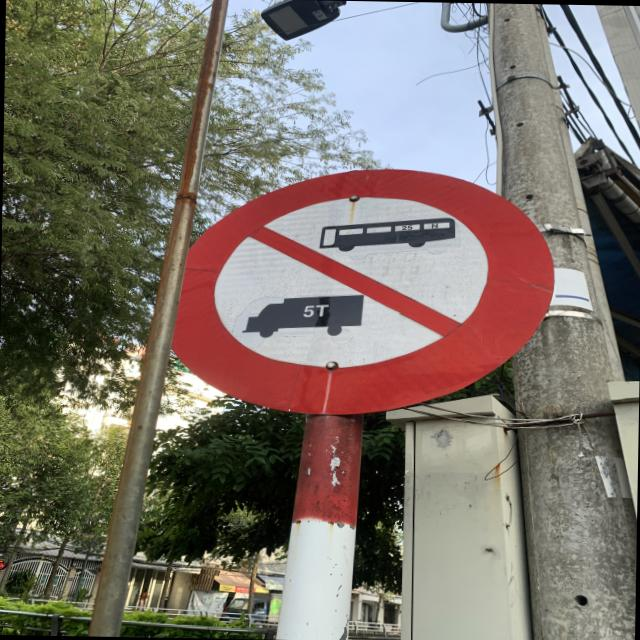Cam_XeTai_XeKhach: (162, 159, 548, 416)
